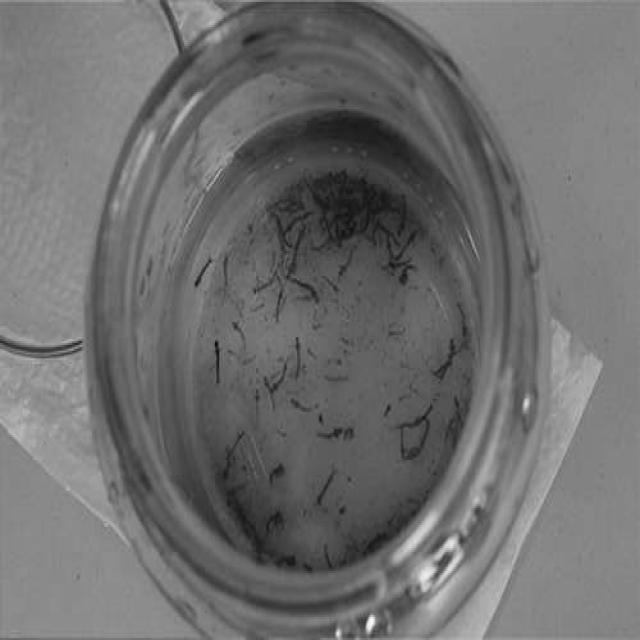larvas: (304, 179, 330, 207), (316, 466, 334, 504), (288, 279, 318, 301), (401, 404, 432, 425), (437, 349, 462, 375), (290, 229, 303, 275), (228, 431, 245, 464), (193, 259, 211, 287), (277, 216, 290, 250), (380, 228, 402, 248), (323, 212, 343, 234), (212, 342, 222, 382), (266, 508, 280, 536), (225, 486, 248, 502), (251, 280, 277, 294), (233, 326, 248, 350), (339, 251, 354, 275), (320, 274, 339, 292), (291, 396, 312, 412), (310, 238, 334, 252), (453, 398, 460, 443), (264, 379, 274, 409), (398, 198, 408, 228), (404, 232, 417, 255), (276, 556, 297, 570), (459, 304, 468, 336), (296, 337, 303, 378), (318, 428, 340, 441), (323, 542, 333, 570), (442, 418, 453, 442), (267, 200, 293, 210), (401, 266, 417, 282), (222, 252, 229, 288), (276, 364, 286, 389), (391, 256, 410, 268), (269, 464, 282, 480), (254, 387, 260, 420), (276, 290, 282, 322), (292, 213, 310, 223), (361, 211, 370, 231), (450, 331, 455, 352)
